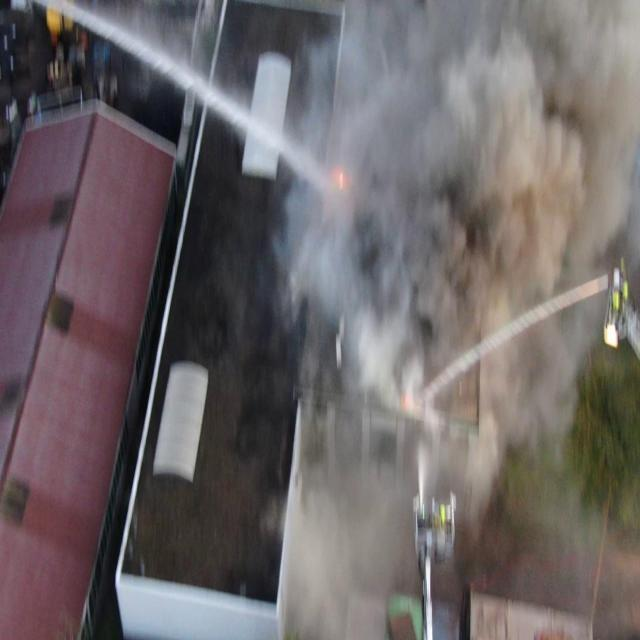Fire: (340, 174, 342, 189)
Smoke: (268, 0, 640, 640)
